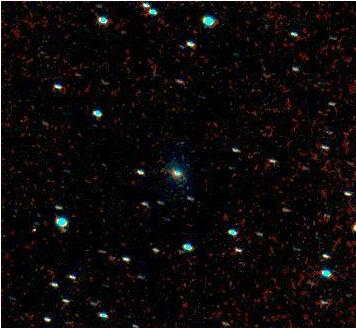star: (20, 215, 50, 245)
